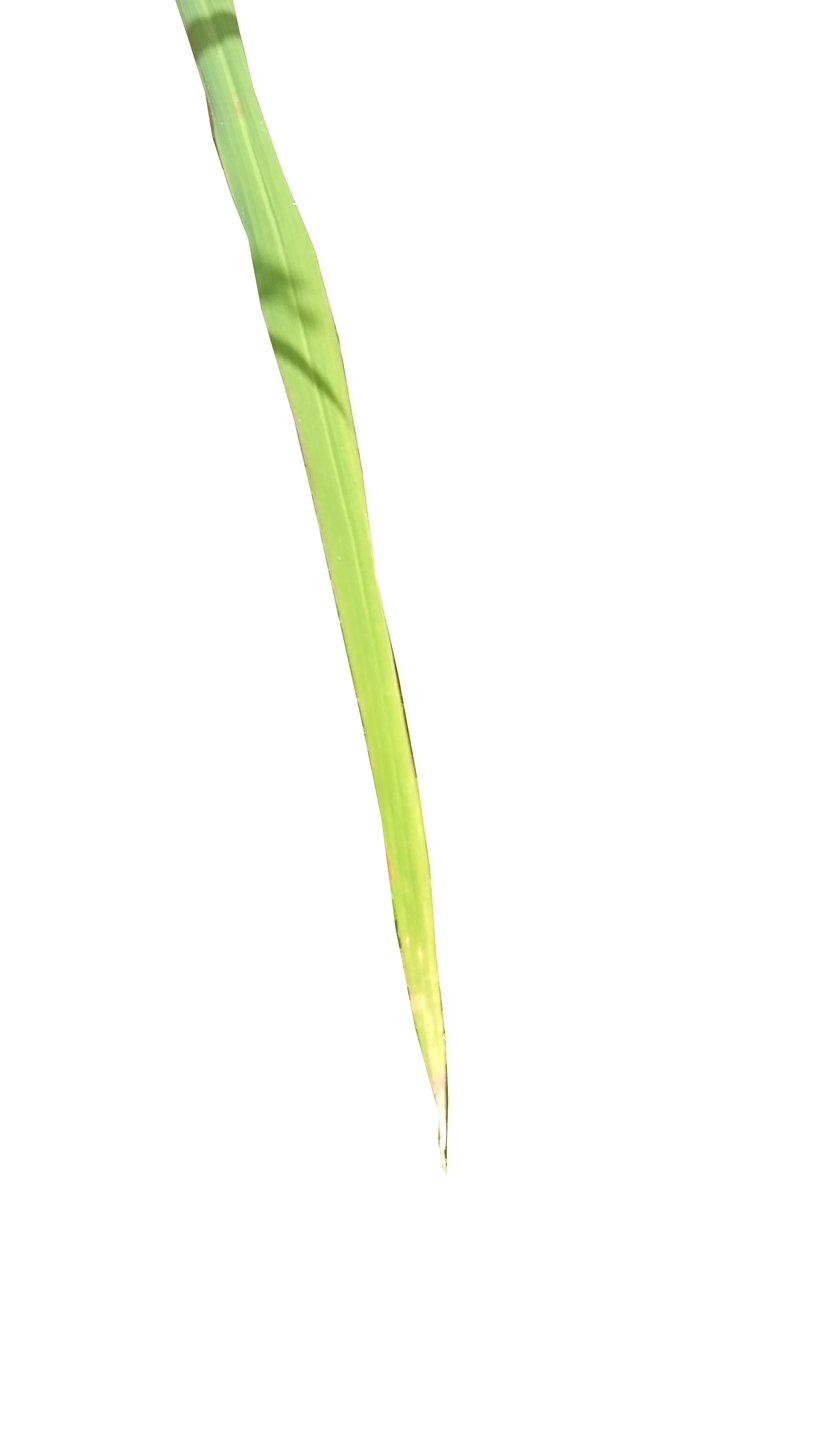Tungro: (264, 327, 445, 1175)
